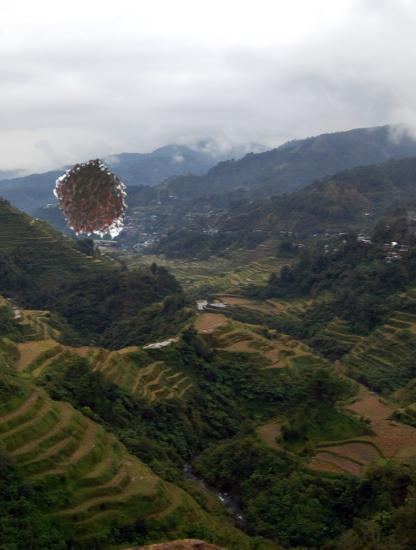Rambutan: (50, 159, 135, 244)
